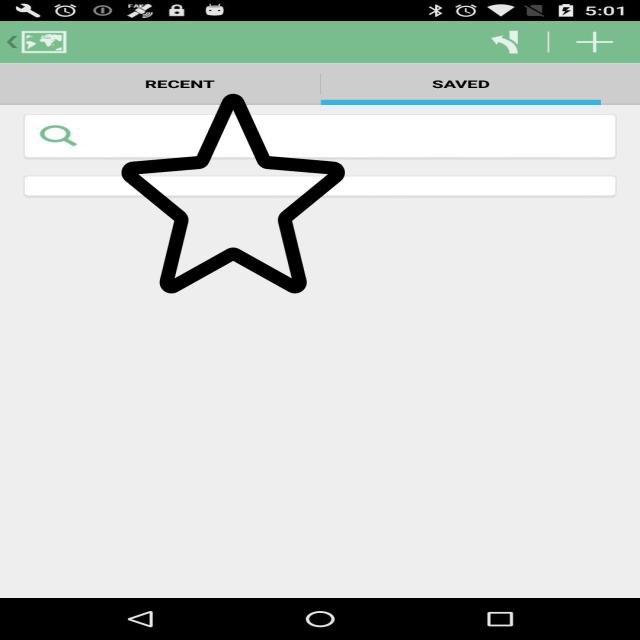forced continuity: (121, 89, 345, 298)
